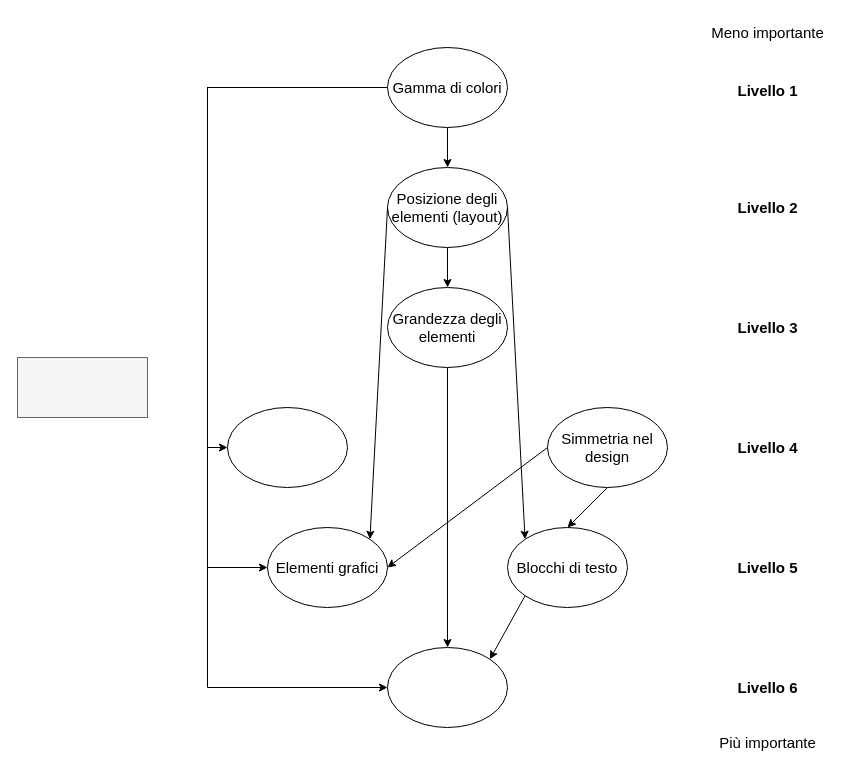
This 855x774 diagram has some shape labels left out. The centre of each missing label's shape, as x and y in pixels:
Caratteri tipografici: point 447,687
Legenda A → B: A dipende da B: point 82,387
Tecniche di Data Visualization: point 287,447
